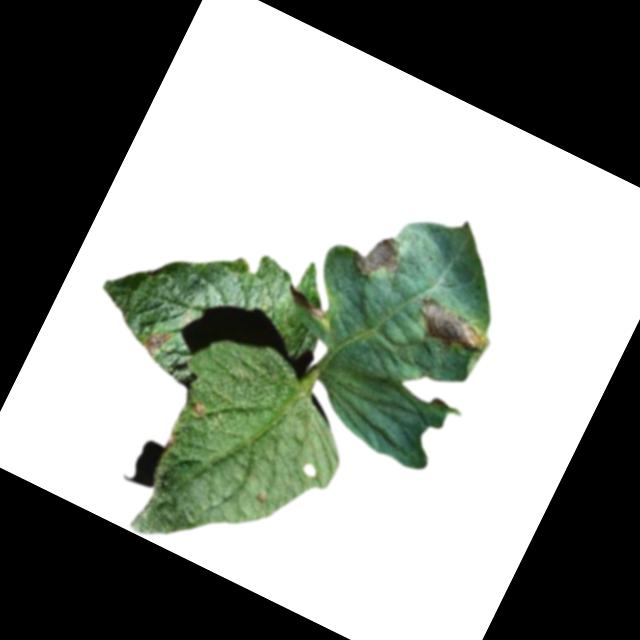Early_blight: (408, 294, 493, 368), (346, 223, 410, 291), (278, 280, 331, 323), (142, 324, 173, 360), (160, 427, 180, 453), (190, 400, 207, 419)
